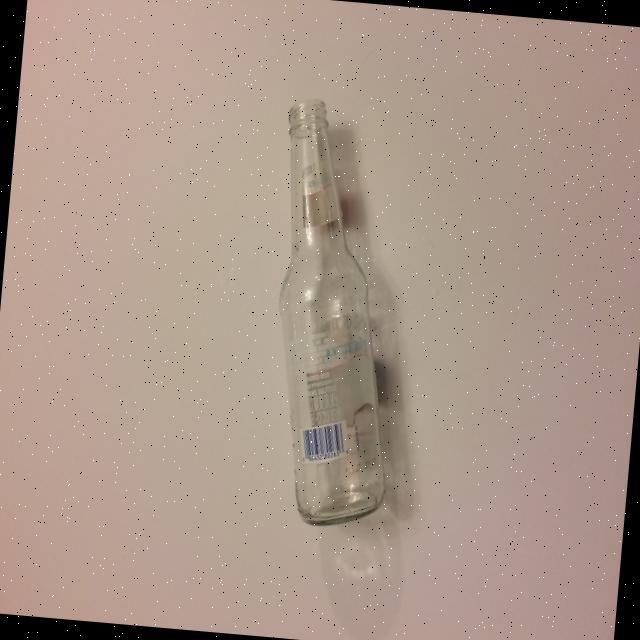glass: (252, 96, 419, 530)
